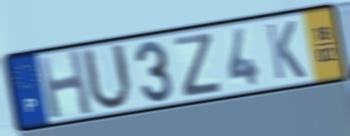3: (134, 39, 175, 105)
4: (226, 25, 262, 89)
H: (36, 48, 95, 122)
K: (264, 18, 309, 82)
U: (79, 41, 134, 113)
Z: (172, 31, 223, 99)
